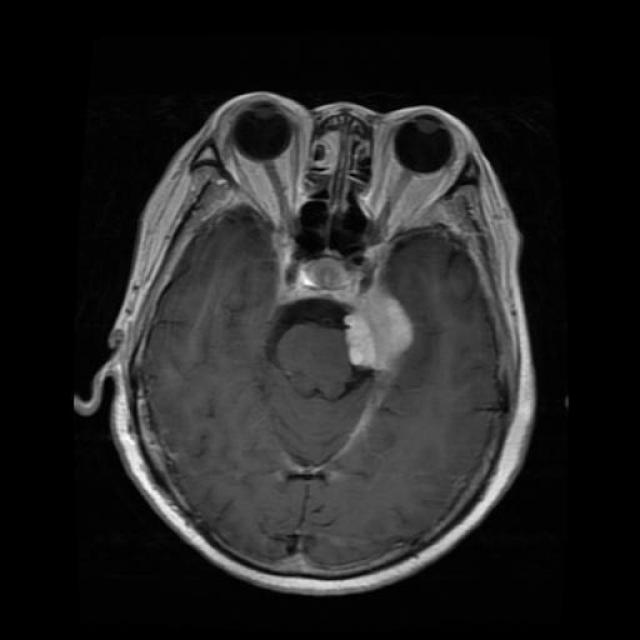Brain-Tumor: (333, 271, 427, 398)
eye: (204, 77, 314, 271), (374, 83, 473, 263)
